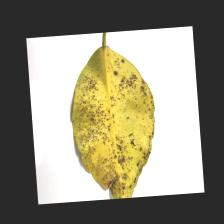canker: (72, 84, 142, 174)
